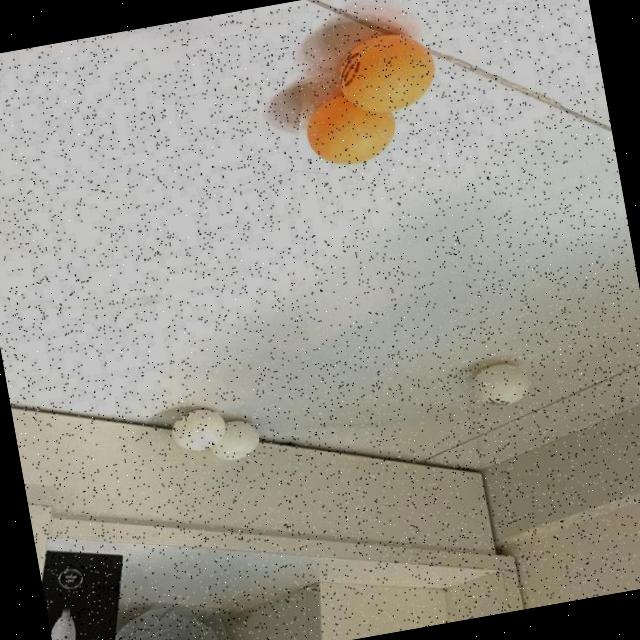ping-pong-ball: (334, 25, 442, 117), (302, 84, 403, 171), (470, 358, 536, 410), (170, 404, 230, 454), (207, 416, 264, 462)
